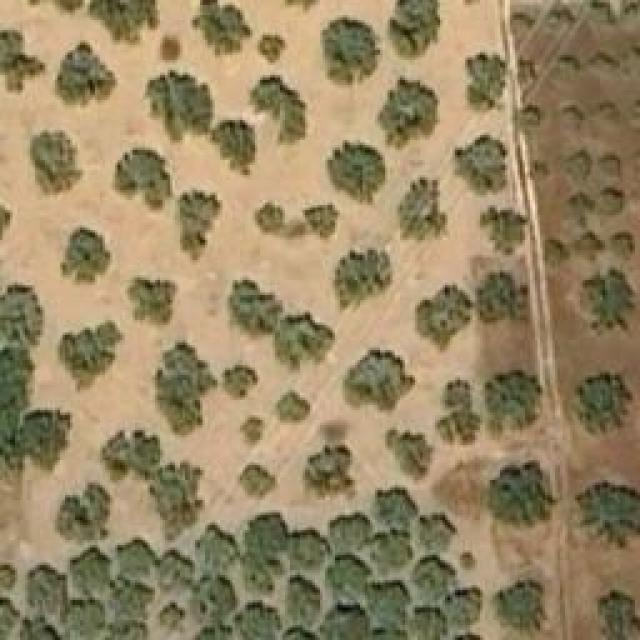Tree: (153, 338, 218, 438), (57, 320, 125, 393), (343, 347, 416, 415), (487, 460, 555, 528), (575, 480, 640, 548), (380, 78, 443, 148), (325, 140, 388, 208), (330, 247, 393, 315), (415, 283, 473, 356), (147, 75, 215, 135), (250, 75, 308, 145), (322, 15, 380, 85), (577, 265, 635, 335), (485, 370, 543, 433), (0, 348, 30, 468), (193, 0, 253, 58), (148, 460, 203, 523), (578, 373, 633, 436), (30, 130, 83, 195), (453, 135, 506, 198), (115, 148, 170, 208), (275, 318, 335, 373), (303, 443, 358, 503), (398, 178, 448, 243), (385, 0, 440, 58), (478, 270, 531, 330), (495, 577, 548, 635), (0, 30, 45, 95), (435, 380, 480, 445), (98, 430, 163, 475), (60, 227, 110, 285), (90, 0, 157, 42), (385, 428, 435, 481), (228, 280, 278, 333), (465, 54, 508, 115), (60, 490, 113, 538), (215, 117, 258, 175), (178, 192, 221, 250), (20, 410, 65, 465), (0, 285, 40, 343), (480, 207, 528, 255), (63, 48, 108, 98), (127, 278, 175, 323), (190, 575, 238, 620), (243, 512, 288, 560), (597, 590, 640, 640), (410, 552, 453, 600), (23, 568, 68, 611), (545, 233, 605, 263), (193, 525, 233, 570), (288, 573, 321, 626), (70, 550, 110, 593), (153, 553, 193, 596), (328, 515, 373, 553), (64, 600, 105, 640), (365, 535, 408, 573), (302, 203, 340, 246), (320, 558, 360, 598), (415, 515, 455, 553), (367, 583, 405, 623), (448, 588, 483, 631), (223, 360, 258, 400), (288, 530, 323, 570), (110, 583, 148, 618), (325, 610, 368, 640), (377, 493, 415, 526), (115, 540, 150, 575), (240, 605, 275, 640), (275, 390, 310, 425), (253, 203, 288, 236), (409, 607, 442, 640), (258, 30, 288, 65), (240, 463, 270, 498), (513, 105, 548, 133), (545, 5, 576, 31), (597, 187, 625, 215), (592, 105, 620, 133), (23, 622, 66, 640), (240, 418, 265, 448), (193, 620, 228, 640), (518, 58, 538, 93), (613, 232, 636, 260), (558, 103, 583, 128), (585, 5, 610, 28), (558, 57, 578, 85), (568, 152, 588, 180), (622, 50, 640, 80), (590, 55, 613, 78), (568, 195, 591, 218), (108, 625, 143, 640), (620, 8, 640, 31), (0, 600, 15, 630), (0, 565, 15, 593), (162, 38, 180, 61), (598, 157, 621, 175), (160, 605, 178, 625), (510, 15, 530, 30), (460, 553, 475, 568)
